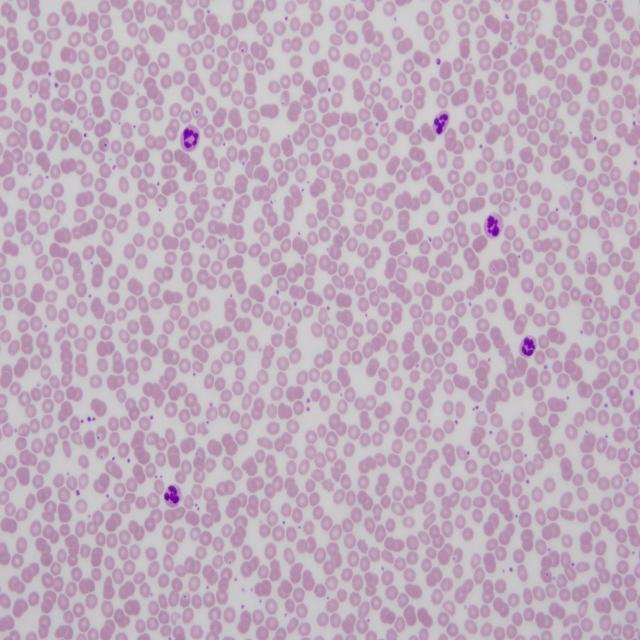cell: (180, 124, 200, 151), (484, 212, 504, 237), (432, 110, 450, 135), (164, 484, 181, 507), (520, 336, 536, 357)
